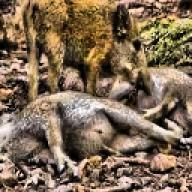boar: (0, 88, 192, 178), (18, 0, 153, 105), (109, 64, 192, 143)
